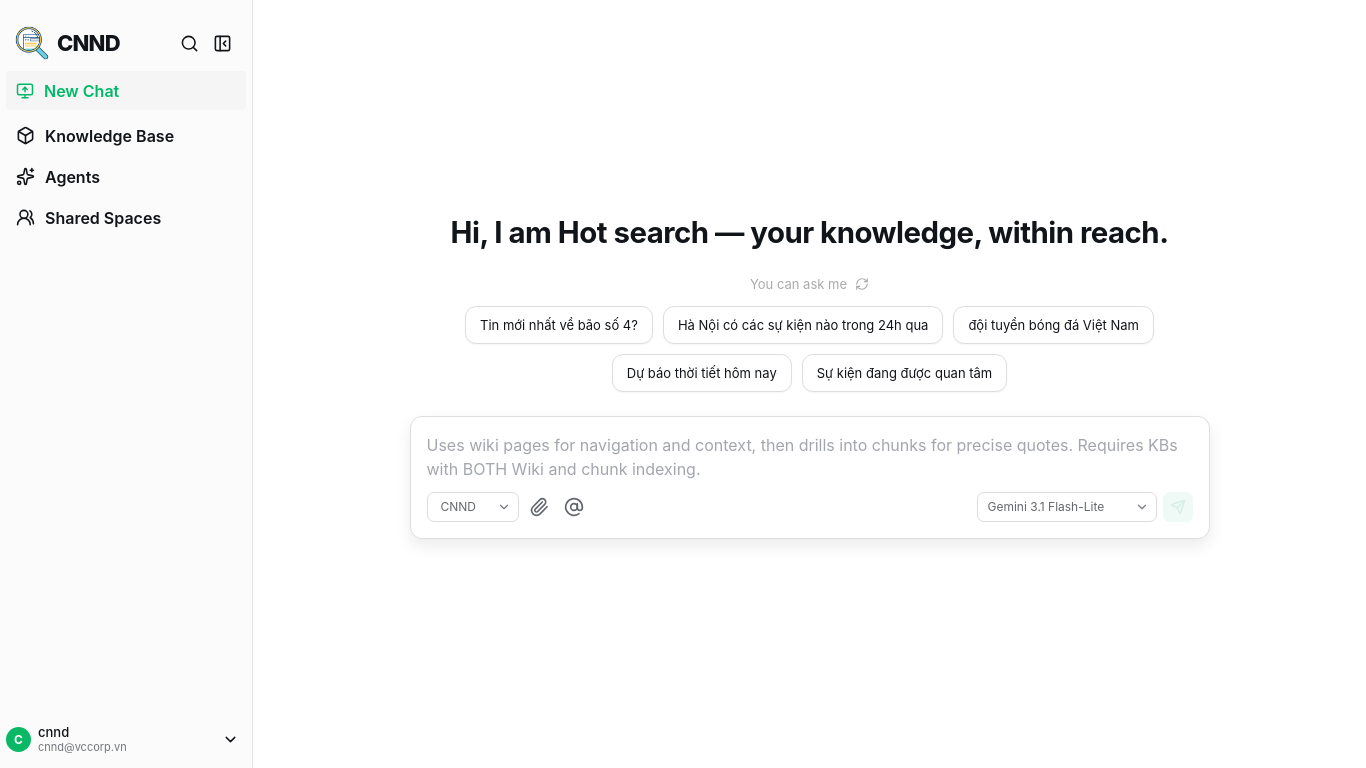
Scenario: preserves loaded related results and cursor when the next page fails
The width and height of the screenshot is (1366, 768).
In the text box named "Message": (810, 460) [426,433,1192,487], type "Tìm sự kiện"
Then press Enter
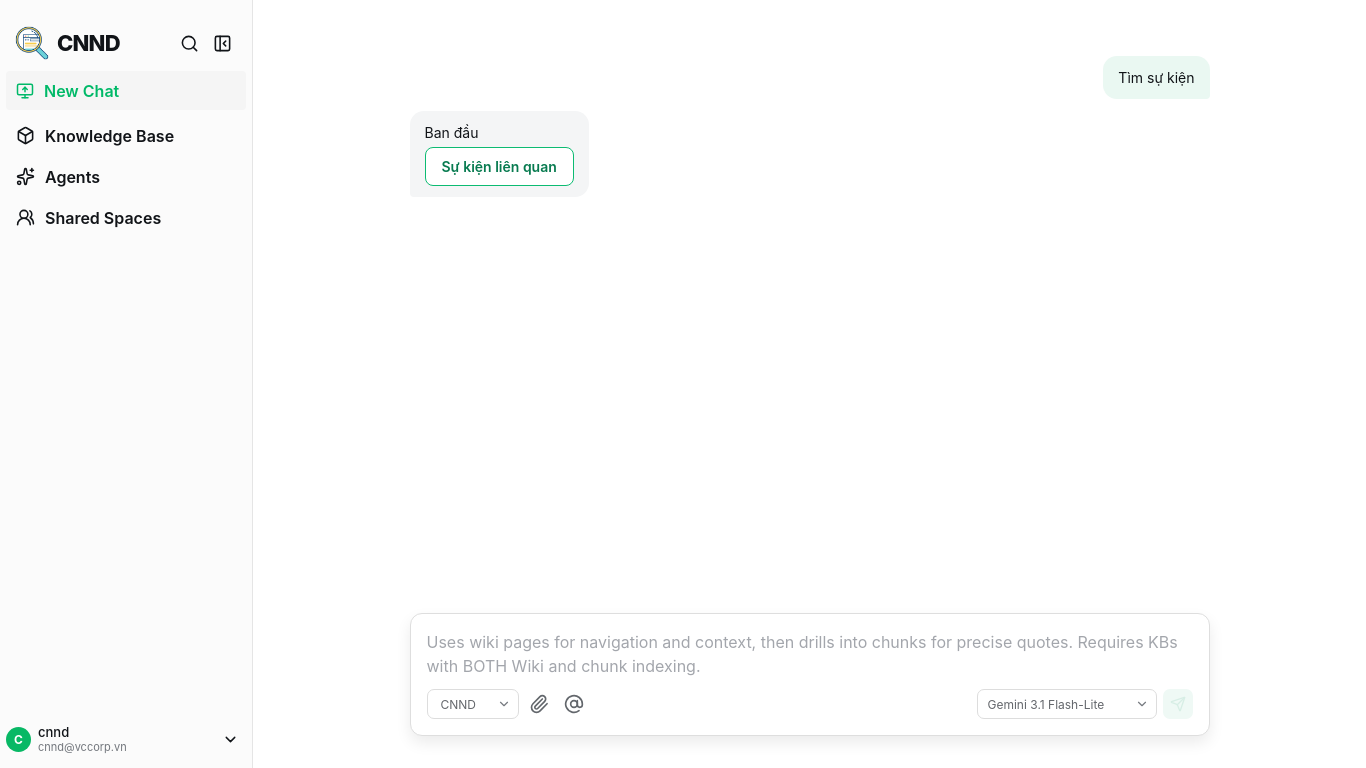
Click the button "Sự kiện liên quan": (499, 166) [424,147,574,186]
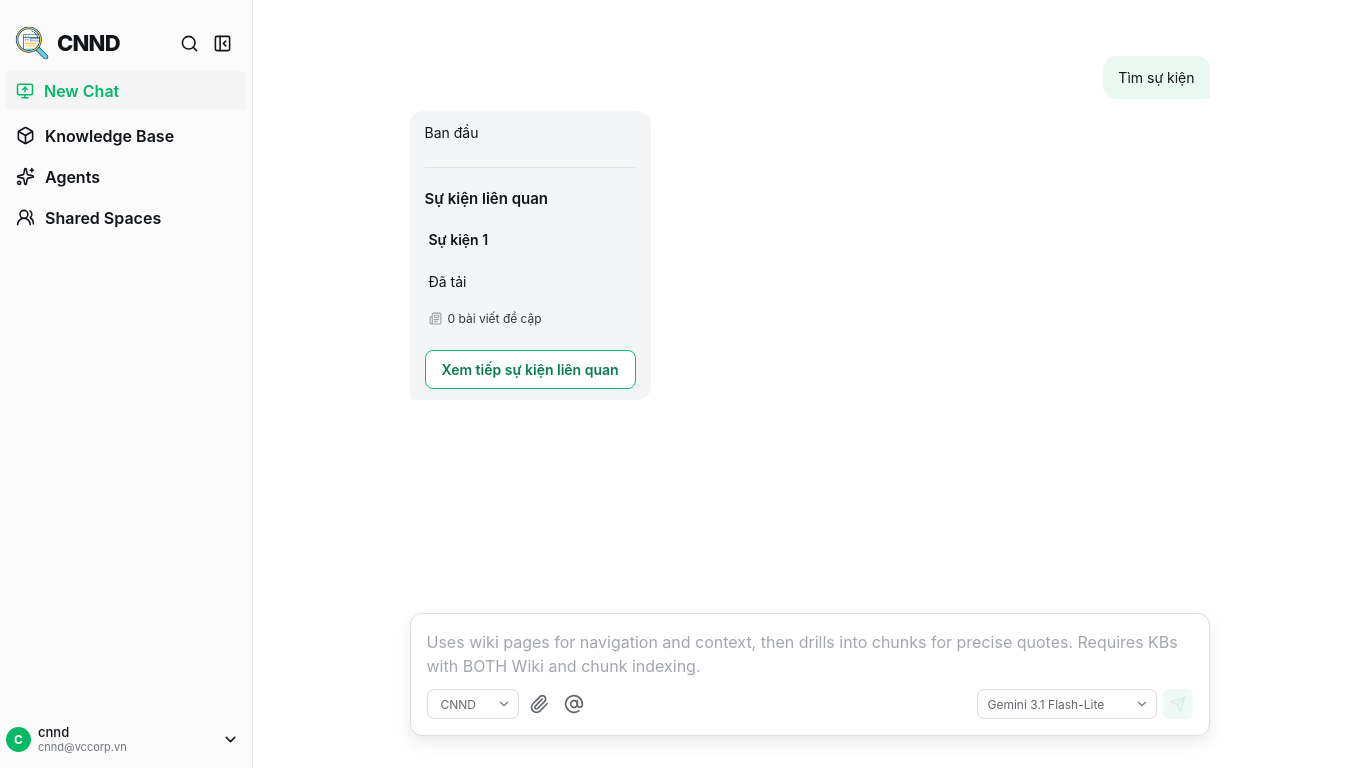
Click the button "Xem tiếp sự kiện liên quan": (530, 369) [424,350,636,389]
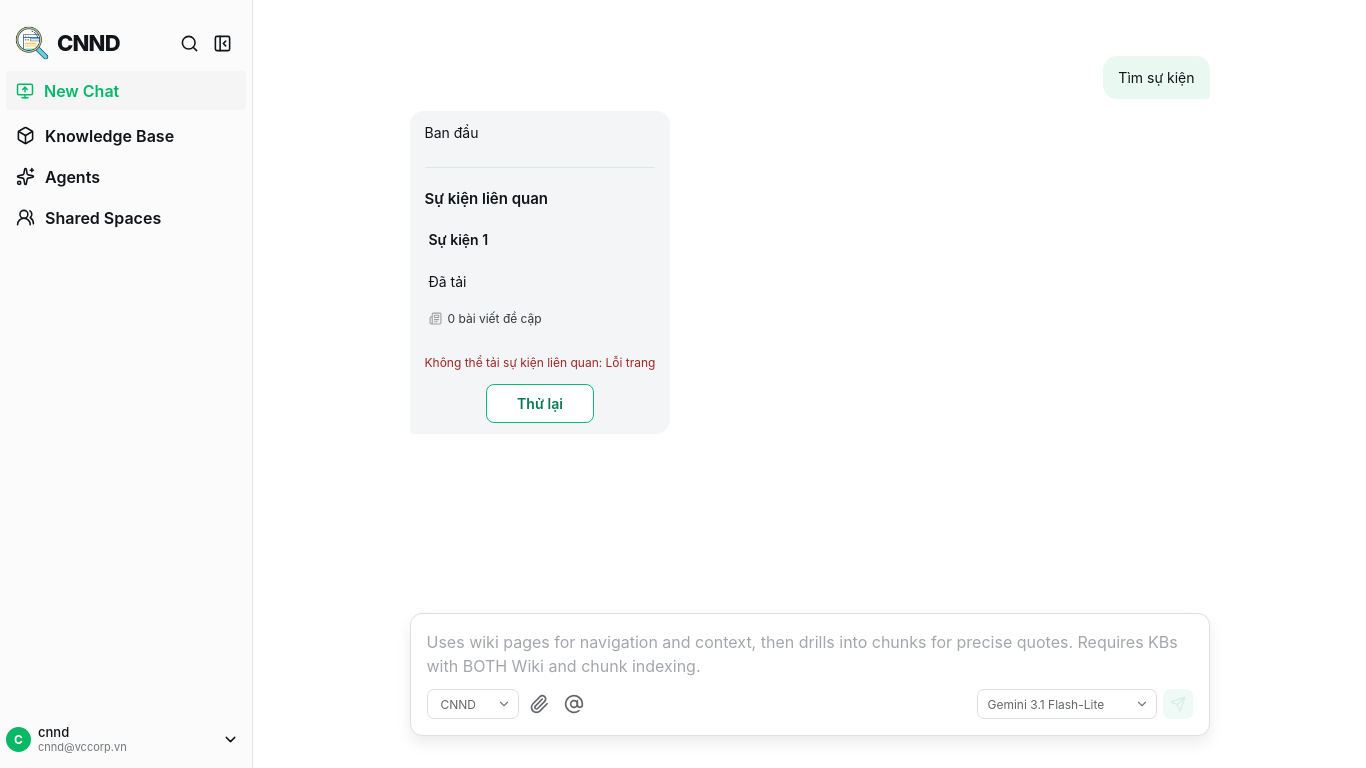
Now the text "Đã tải" is shown, box [428,272,466,290]
Click the button "Thử lại": (540, 403) [486,384,594,423]
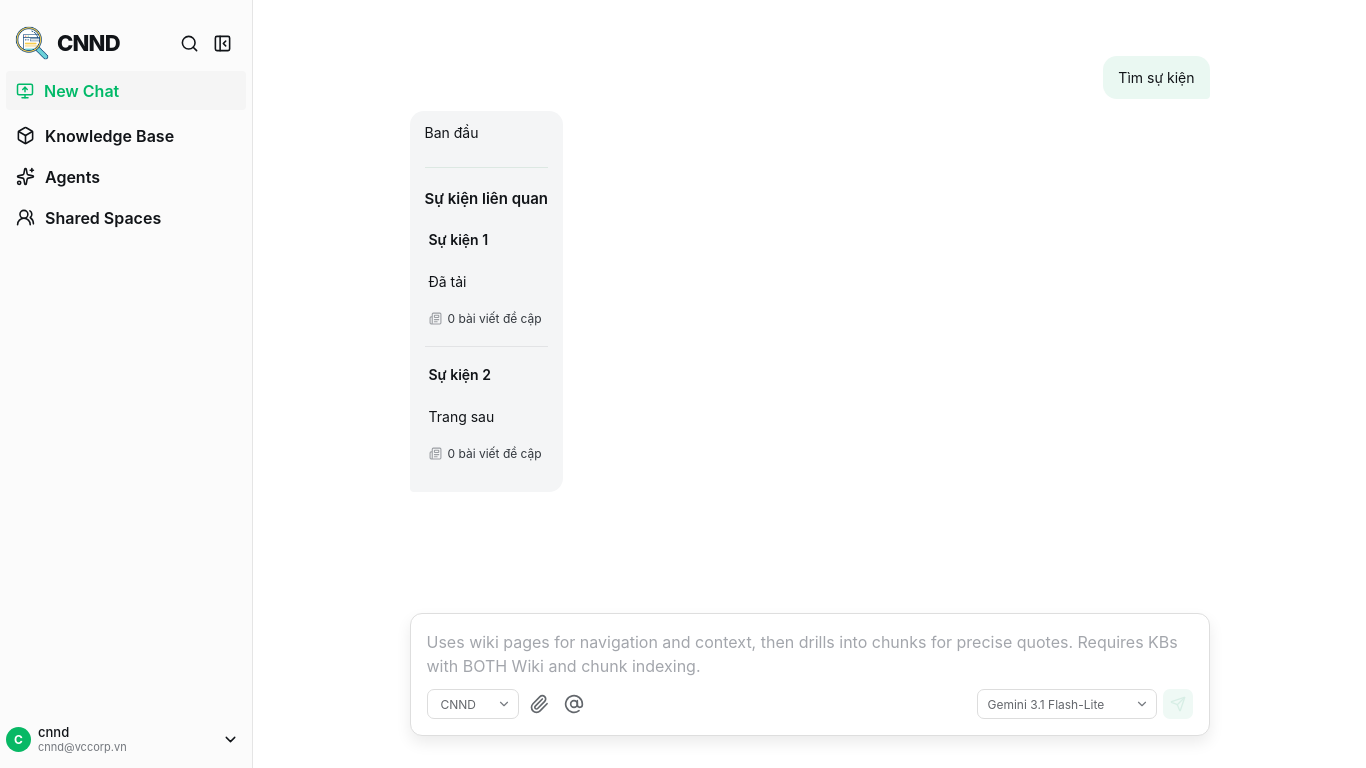
Now the text "Đã tải" is shown, box [428,272,466,290]
Now the text "Trang sau" is shown, box [428,408,494,425]
